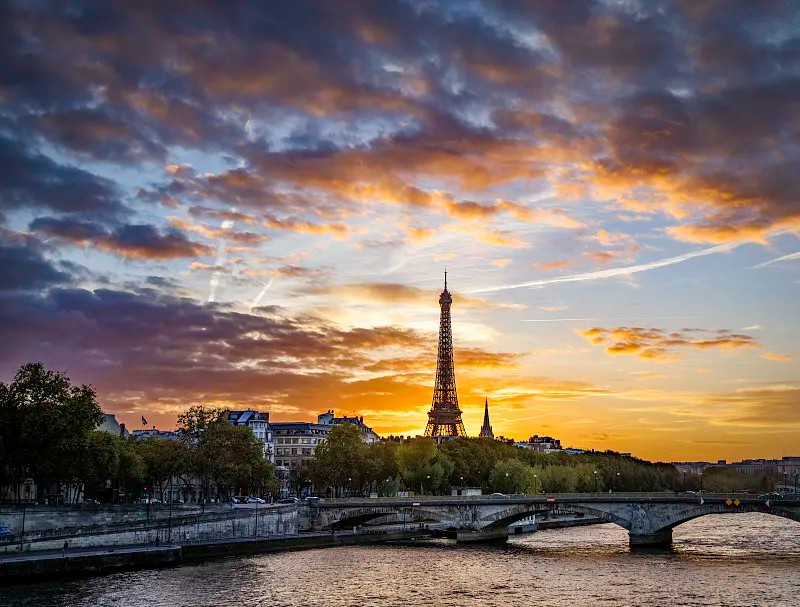Eiffel: (423, 266, 467, 438)
